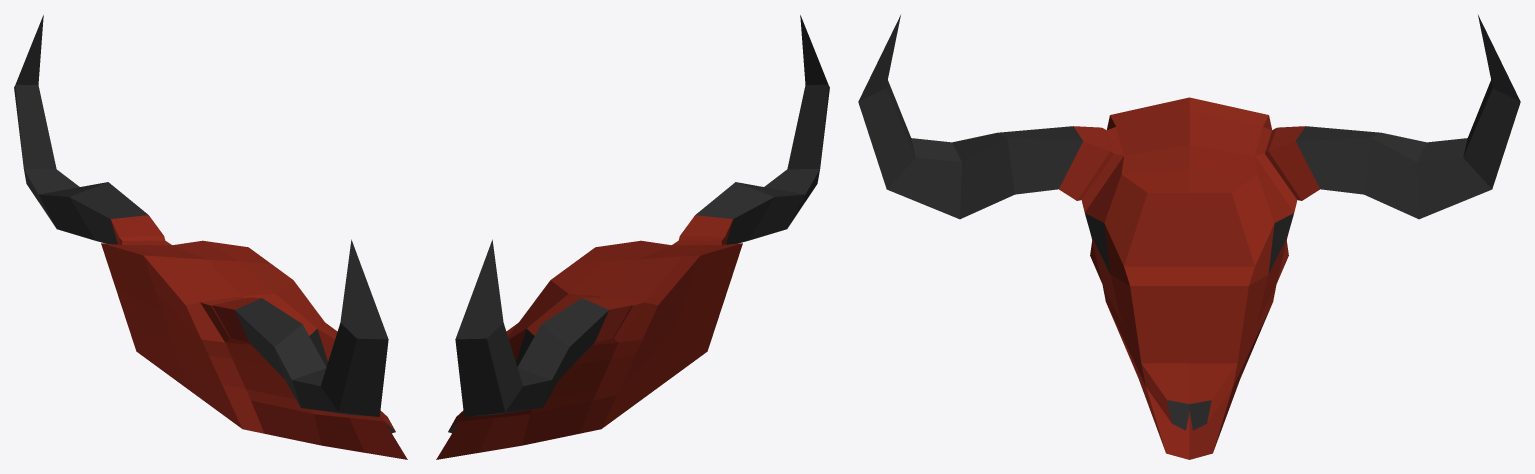
The model's file is HeadBoneDec.fbx.
3 renders of one model, left to right at view 1: azimuth 30°, elevation 25°; view 2: azimuth 150°, elevation 25°; view 3: azimuth 270°, elevation 25°, orthographic. The views are drawn at different scales.
Parts seen in each view (by area): view 1: Cube; view 2: Cube; view 3: Cube.
Part boxes in pixels (bbox=[...]): Cube: bbox=[14, 15, 407, 459]; Cube: bbox=[436, 15, 829, 459]; Cube: bbox=[858, 15, 1520, 459].
Bounding box in the file's own units: 200 × 288 × 486.
